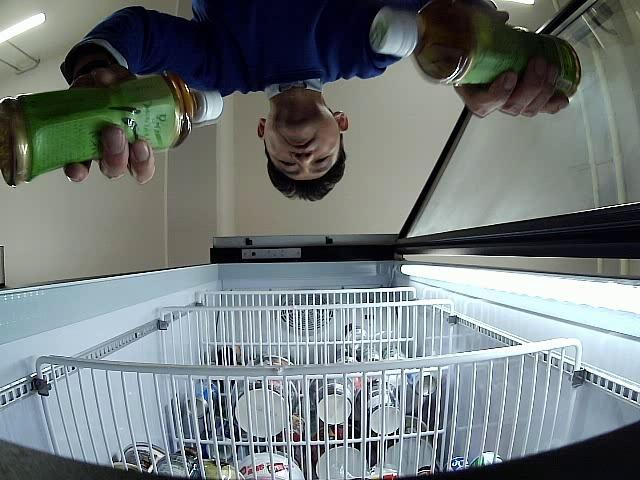19_17cha: (6, 77, 226, 188), (371, 1, 581, 100)
